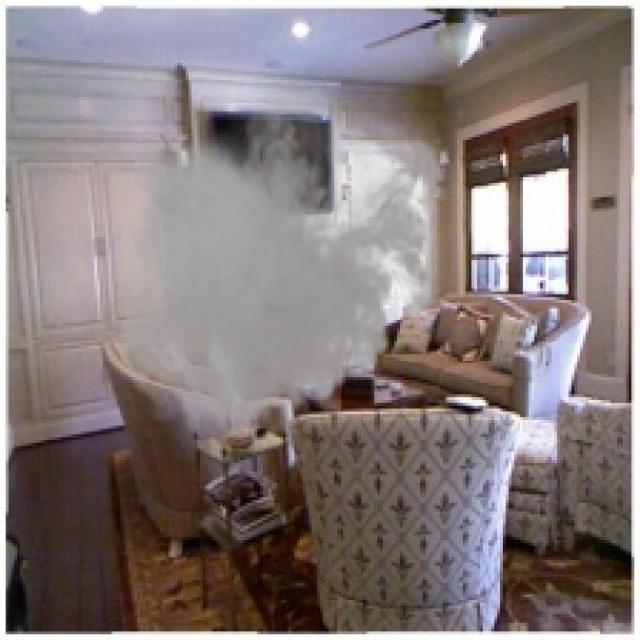Smoke: (109, 80, 458, 449)
